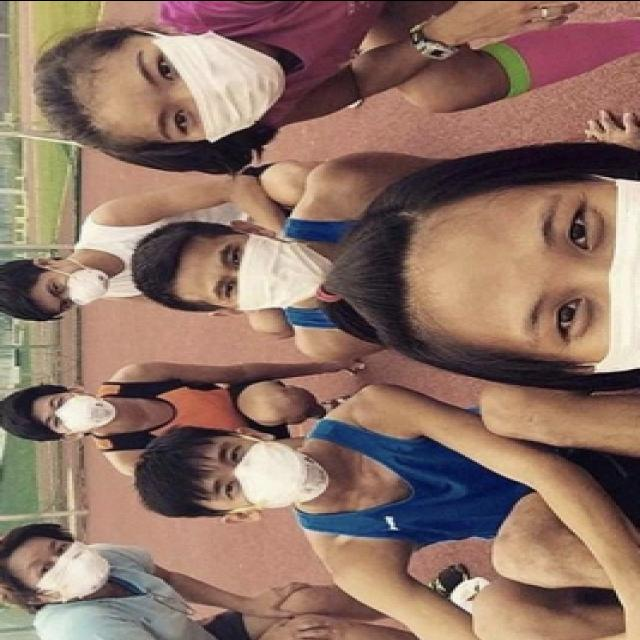with_mask: (520, 175, 638, 372), (127, 32, 283, 142), (211, 230, 331, 310), (208, 438, 324, 511), (27, 539, 112, 597), (41, 389, 112, 437), (40, 262, 110, 308)
